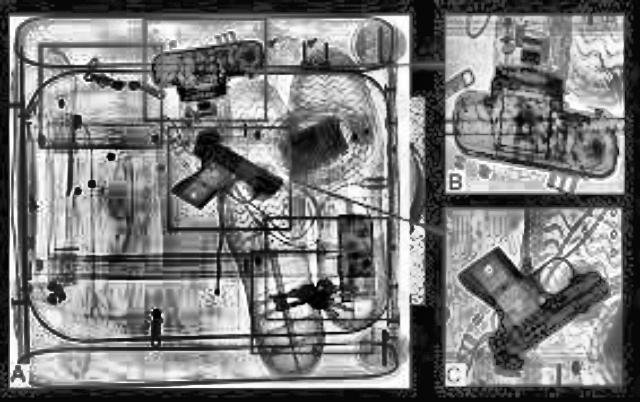Gun: (453, 244, 611, 374), (160, 126, 282, 207)
